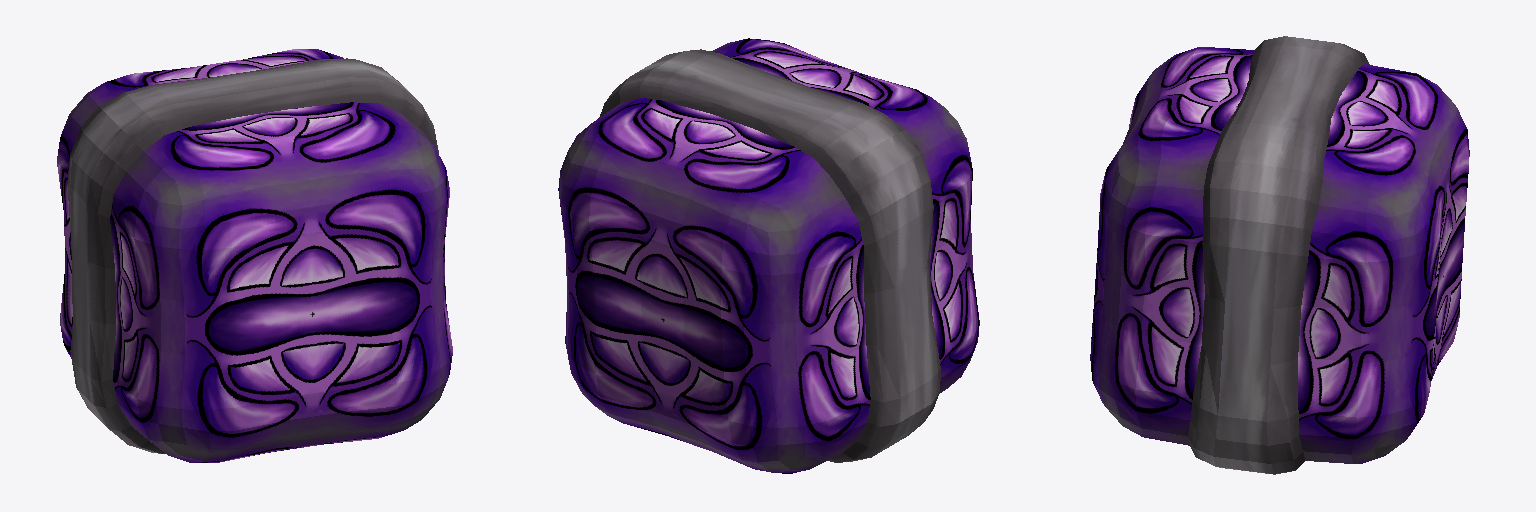
3 renders of one model, left to right at view 1: azimuth 30°, elevation 25°; view 2: azimuth 150°, elevation 25°; view 3: azimuth 270°, elevation 25°, orthographic.
Parts seen in each view (by area): view 1: pCube1; view 2: pCube1; view 3: pCube1.
Boxes of the visible parts, box(x1,y1,x2,y2) form: pCube1: box(57, 49, 452, 462); pCube1: box(558, 38, 979, 473); pCube1: box(1090, 36, 1469, 474).
Bounding box in the file's own units: 1.1 × 1.1 × 1.1.
Materials: 1 (1 with a texture image).